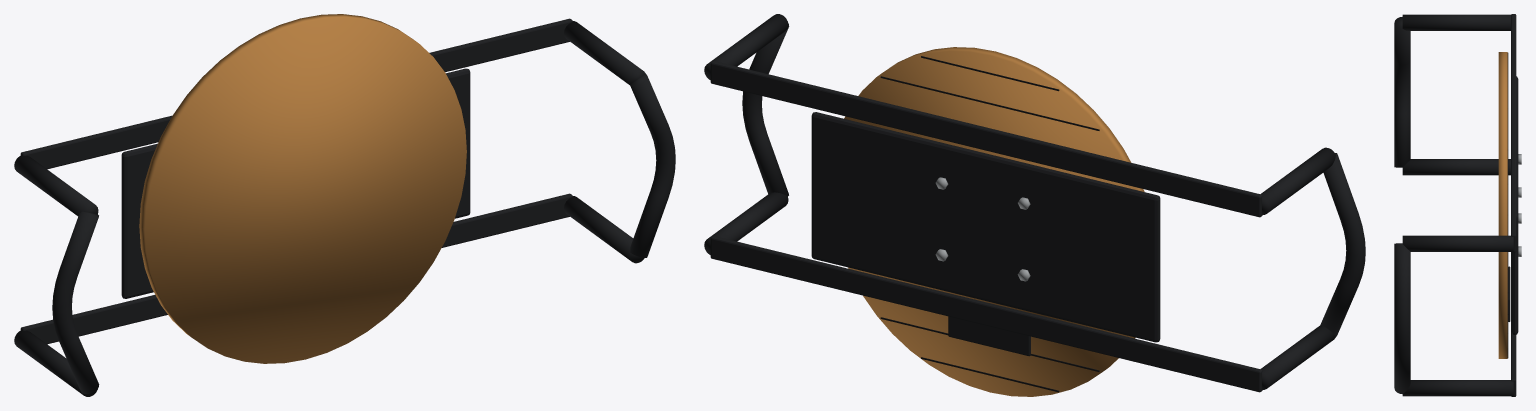
The model's file is spareCover_damd_tb_guard.glb.
3 views of the same model, side by side, from view 1: azimuth 30°, elevation 25°; view 2: azimuth 150°, elevation 25°; view 3: azimuth 270°, elevation 25° (orthographic). The views are drawn at different scales.
Visible parts, largest first — view 1: wood, bar1.002, bar-1, plate.031, clamp-1.003, clamp1.003, clampRun-11, clampRun11, clampRun1-1, clampRun-1-1; view 2: plate.031, wood, bar1.002, bar-1, clamp-1.003, clamp1.003, clampRun-11, plaque, clampRun-1-1, clampRun11, clampRun1-1; view 3: wood, clamp1.003, clamp-1.003, clampRun11, clampRun-11, clampRun1-1, clampRun-1-1, bar1.002, plate.031, bar-1, plaque.
Part boxes in pixels (<box>): wood: <box>139,14,466,363</box>; bar1.002: <box>20,18,572,169</box>; bar-1: <box>20,193,572,344</box>; plate.031: <box>121,68,470,298</box>; clamp-1.003: <box>52,211,99,394</box>; clamp1.003: <box>630,74,675,257</box>; clampRun-11: <box>14,155,98,216</box>; clampRun11: <box>564,21,645,85</box>; clampRun1-1: <box>564,196,644,263</box>; clampRun-1-1: <box>14,330,97,396</box>; plate.031: <box>811,112,1160,342</box>; wood: <box>844,47,1144,396</box>; bar1.002: <box>710,61,1262,217</box>; bar-1: <box>710,236,1262,392</box>; clamp-1.003: <box>1320,153,1365,336</box>; clamp1.003: <box>742,23,789,196</box>; clampRun-11: <box>1260,147,1335,214</box>; plaque: <box>948,316,1030,356</box>; clampRun-1-1: <box>1260,325,1335,389</box>; clampRun11: <box>704,14,788,79</box>; clampRun1-1: <box>704,192,788,254</box>; wood: <box>1498,52,1507,358</box>; clamp1.003: <box>1394,243,1410,393</box>; clamp-1.003: <box>1394,17,1410,167</box>; clampRun11: <box>1402,235,1513,251</box>; clampRun-11: <box>1402,14,1510,30</box>; clampRun1-1: <box>1402,380,1513,396</box>; clampRun-1-1: <box>1402,159,1510,175</box>; bar1.002: <box>1511,14,1516,252</box>; plate.031: <box>1511,76,1518,334</box>; bar-1: <box>1511,252,1516,396</box>; plaque: <box>1508,266,1510,321</box>.
Bounding box in the file's own units: 0.9063 × 0.47 × 0.1945.
